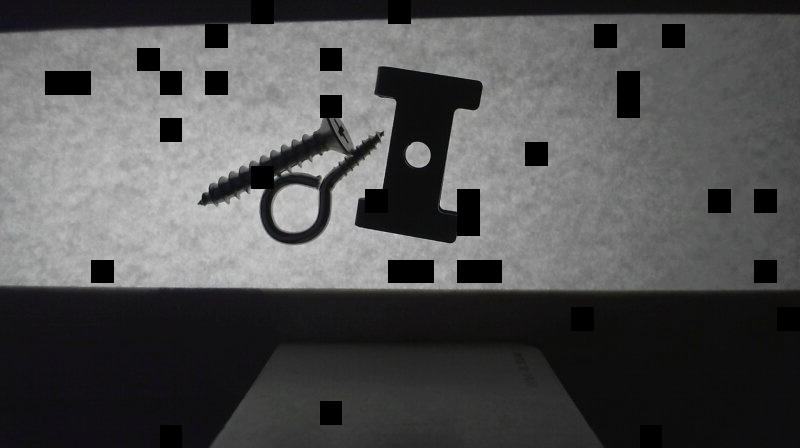O001: (258, 129, 387, 244)
O002: (354, 65, 484, 244)
S001: (194, 105, 356, 208)
